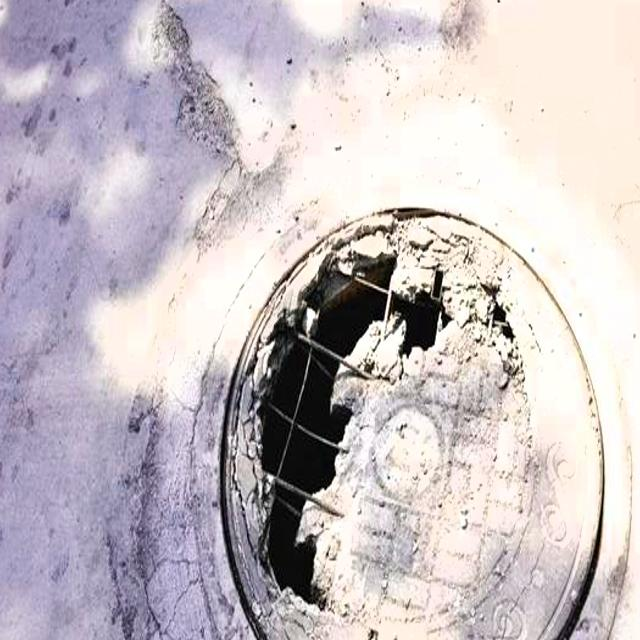broke: (106, 149, 640, 640)
